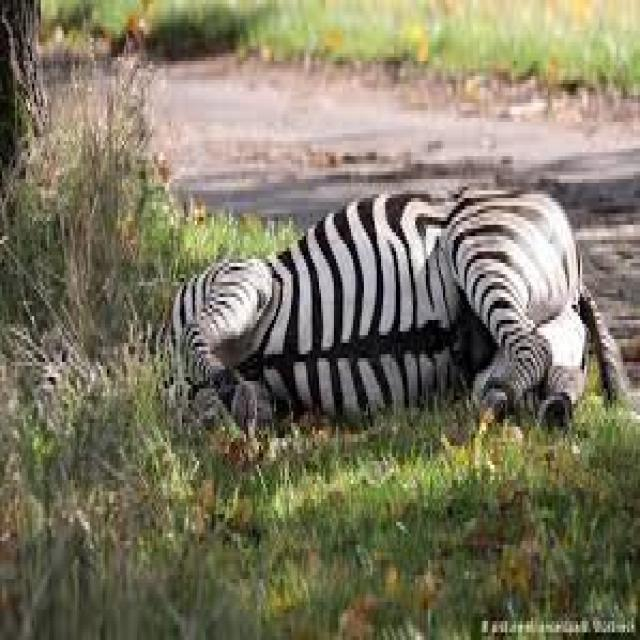Zebra: (143, 182, 592, 460)
